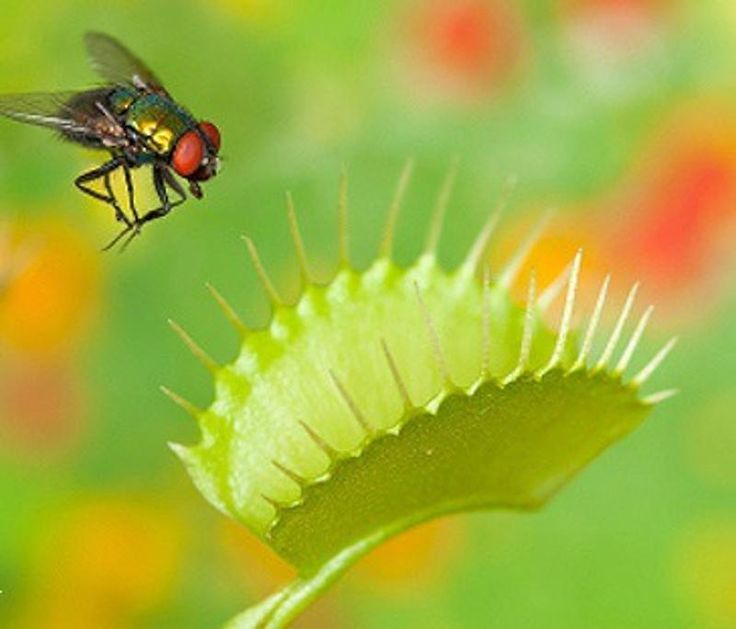house fly: (1, 25, 236, 262)
